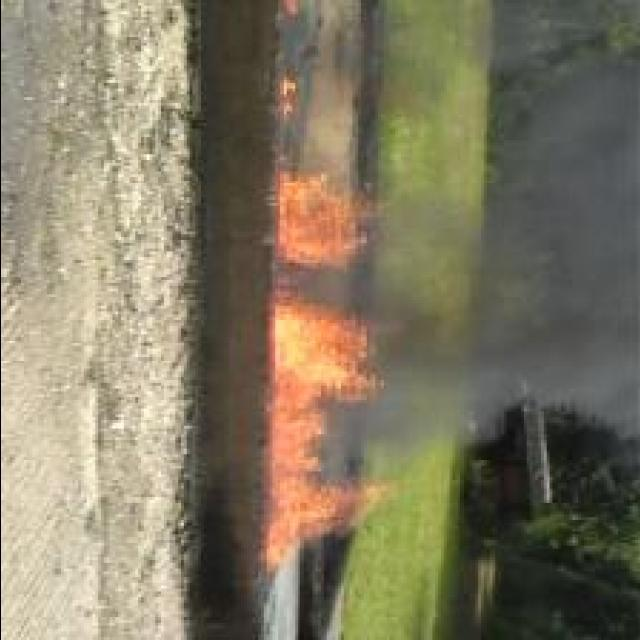Fire: (263, 303, 391, 571), (278, 173, 391, 270)
